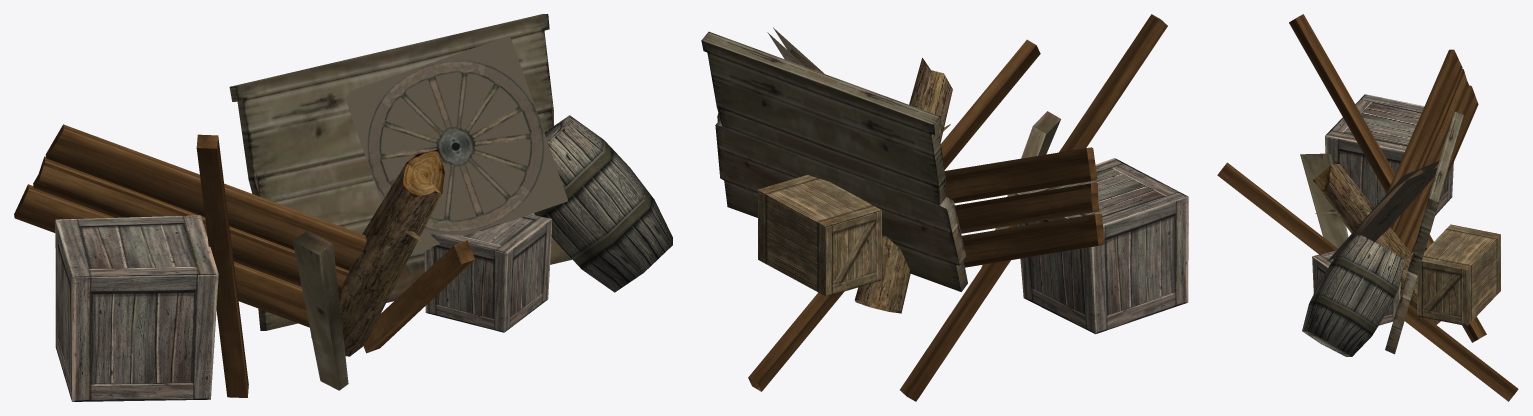
The model's file is pir_m_prp_inv_barricade_05.fbx.
3 renders of one model, left to right at view 1: azimuth 30°, elevation 25°; view 2: azimuth 150°, elevation 25°; view 3: azimuth 270°, elevation 25°, orthographic. The views are drawn at different scales.
Parts seen in each view (by area): view 1: spokes1, CartBase1, polySurface1, barrel, bookshelf_shanty:shelf_4, polycombine, top, polySurface2, shelf_4, lod_high.001, lod_high1, shelf_5 (+2 smaller); view 2: CartBase1, polySurface1, crate, lod_high.001, lod_high2, bookshelf_shanty:shelf_4, shelf_5, shelf_4, polycombine, top, Top, lod_high1; view 3: barrel, crate, lod_high2, lod_high.001, polycombine, top, CartBase1, bookshelf_shanty:shelf_4, polySurface1, Top, shelf_4, lod_high1 (+5 smaller).
Boxes of the visible parts, <box> form: spokes1: <box>345,36,567,253</box>; CartBase1: <box>229,14,571,330</box>; polySurface1: <box>55,220,218,401</box>; barrel: <box>534,115,672,292</box>; bookshelf_shanty:shelf_4: <box>45,124,366,269</box>; polycombine: <box>311,149,444,356</box>; top: <box>55,215,218,277</box>; polySurface2: <box>424,219,551,332</box>; shelf_4: <box>33,156,348,300</box>; lod_high.001: <box>196,134,248,397</box>; lod_high1: <box>292,230,348,390</box>; shelf_5: <box>14,184,309,327</box>; CartBase1: <box>701,31,967,291</box>; polySurface1: <box>1015,193,1188,334</box>; crate: <box>758,190,882,296</box>; lod_high.001: <box>900,14,1167,401</box>; lod_high2: <box>748,39,1040,391</box>; bookshelf_shanty:shelf_4: <box>945,147,1097,203</box>; shelf_5: <box>962,213,1104,267</box>; shelf_4: <box>955,182,1099,233</box>; polycombine: <box>855,58,952,313</box>; top: <box>1017,158,1188,225</box>; Top: <box>758,175,881,226</box>; lod_high1: <box>981,111,1060,267</box>; barrel: <box>1302,235,1405,356</box>; crate: <box>1417,224,1500,325</box>; lod_high2: <box>1217,162,1518,401</box>; lod_high.001: <box>1289,14,1486,342</box>; polycombine: <box>1313,161,1440,324</box>; top: <box>1325,94,1424,151</box>; CartBase1: <box>1385,111,1463,354</box>; bookshelf_shanty:shelf_4: <box>1387,49,1462,228</box>; polySurface1: <box>1325,136,1453,215</box>; Top: <box>1422,225,1499,269</box>; shelf_4: <box>1392,69,1469,240</box>; lod_high1: <box>1300,153,1348,248</box>.
Bounding box in the file's own units: 2049 × 1382 × 1354.
Materials: 2 (2 with a texture image).
